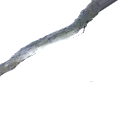crackTip: (1, 1, 118, 75)
